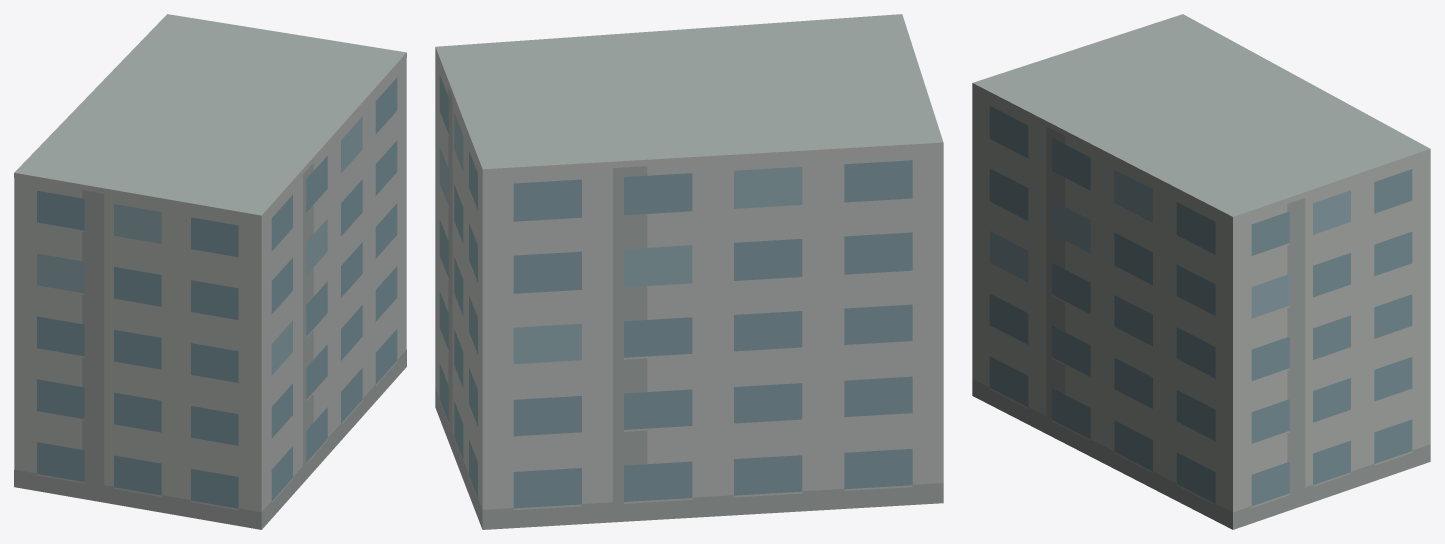
The model's file is survey-upis-32949857.glb.
3 views of the same model, side by side, from view 1: azimuth 30°, elevation 25°; view 2: azimuth 150°, elevation 25°; view 3: azimuth 270°, elevation 25° (orthographic). The views are drawn at different scales.
Visible parts, largest first — view 1: survey-upis-32949857.tmp; view 2: survey-upis-32949857.tmp; view 3: survey-upis-32949857.tmp.
Boxes of the visible parts, left/top/right/bottom form: survey-upis-32949857.tmp: left=14, top=14, right=406, bottom=529; survey-upis-32949857.tmp: left=435, top=14, right=943, bottom=529; survey-upis-32949857.tmp: left=972, top=14, right=1430, bottom=529.
Size of the model in its own units: 19.19 by 13.79 by 18.31.
